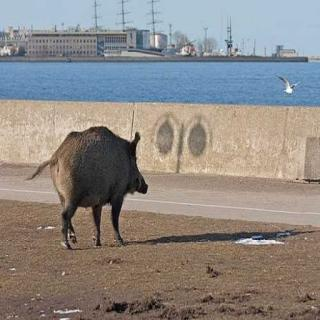Pig: (17, 126, 150, 238)
